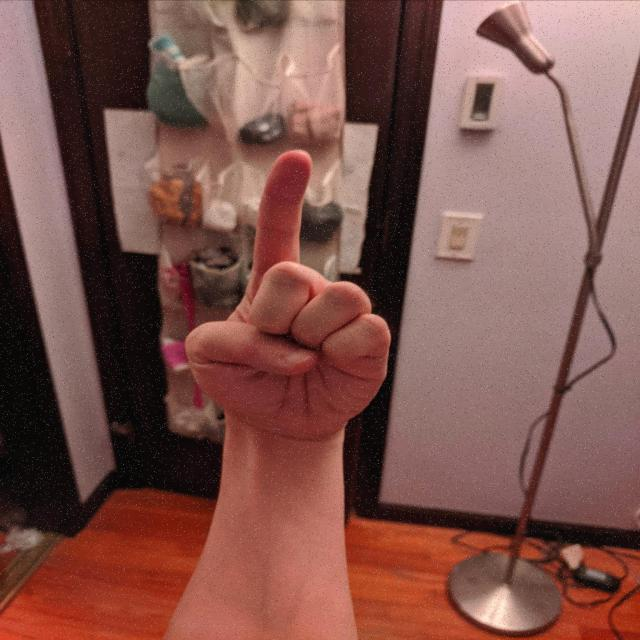D: (176, 145, 398, 446)
